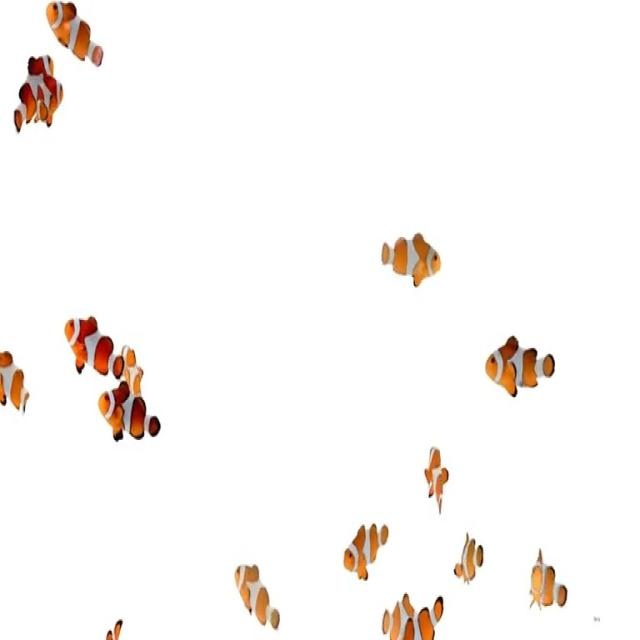fish: (482, 332, 559, 398), (378, 224, 442, 292), (42, 0, 105, 65), (99, 383, 160, 447), (232, 551, 281, 628), (62, 311, 119, 377), (342, 519, 391, 587), (376, 591, 441, 640), (12, 55, 52, 133), (527, 547, 570, 615), (34, 79, 80, 129), (0, 342, 30, 413), (424, 442, 451, 513), (453, 530, 486, 586), (122, 341, 147, 396)
